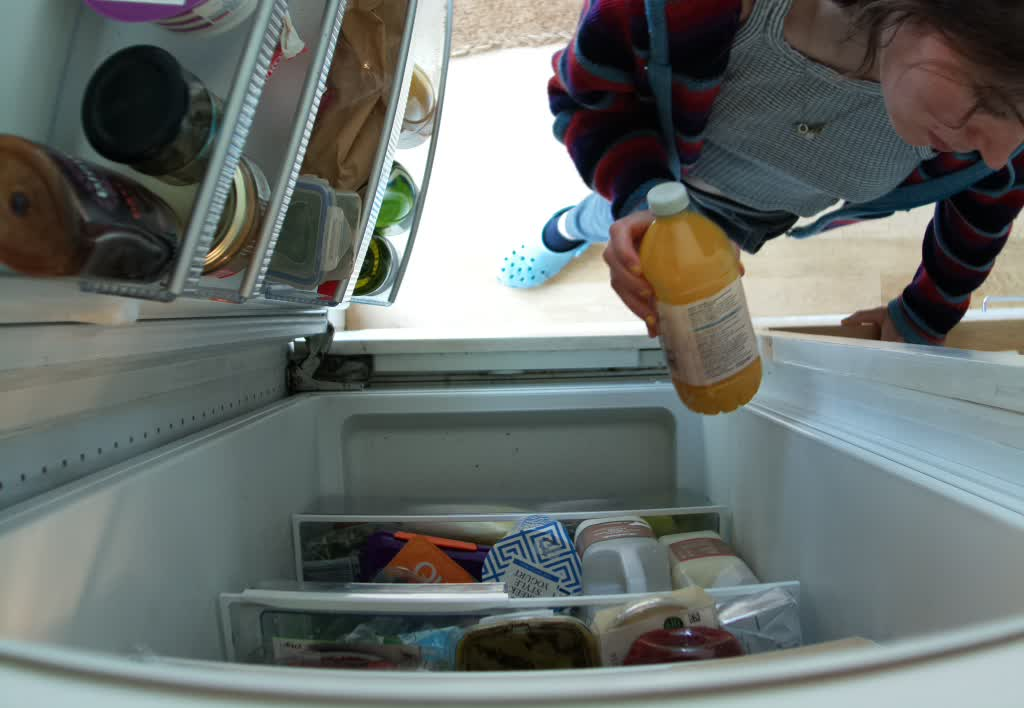juice: (633, 175, 768, 417)
